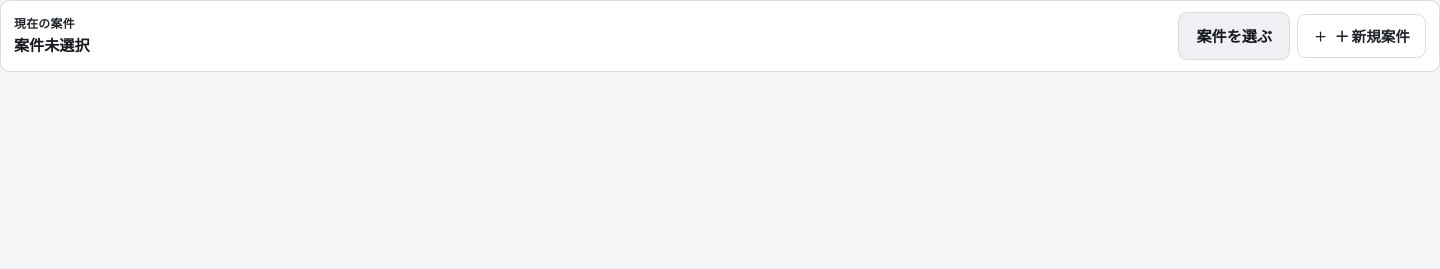
Test case: CaseSelector — 26-0001/26-0002/26-0003 each independently findable (spec #1, #5, #18) › 選択解除 clears the selection and collapses back to the compact 案件未選択 view
Click the button "案件を選ぶ". click: (1234, 36)
box: [1178, 12, 1290, 60]
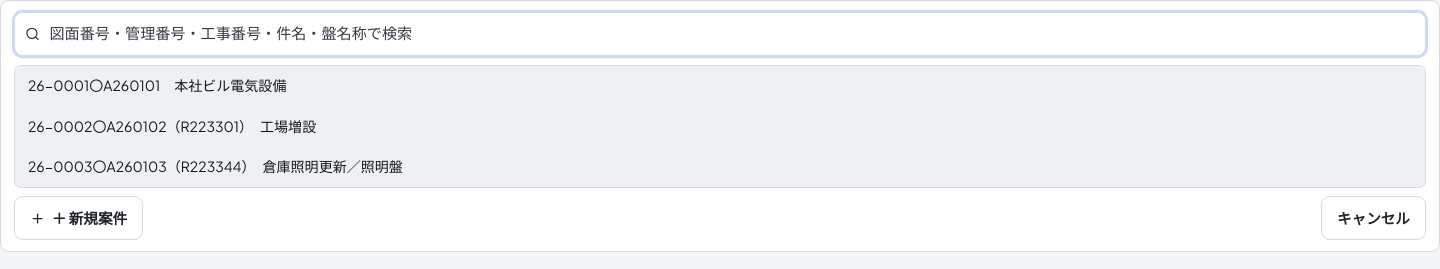
Type "26-0001" into the field with placeholder "図面番号・管理番号・工事番号・件名・盤名称で検索". click: (720, 34)
box: [14, 12, 1426, 56]
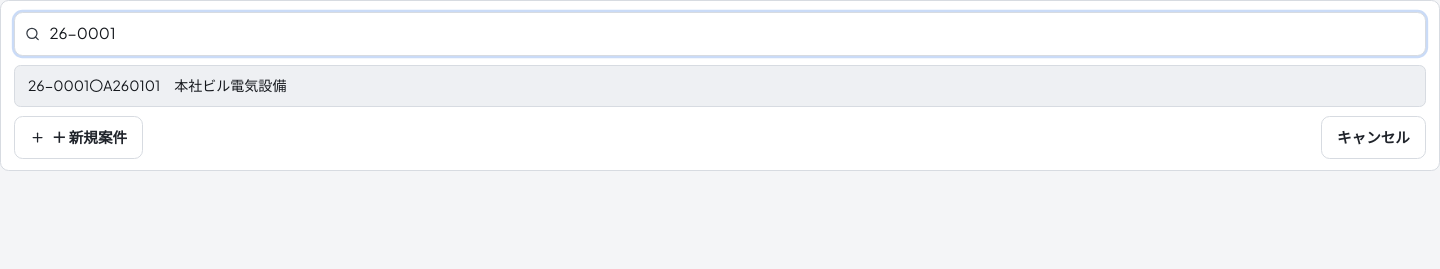
Click the button "26-0001〇A260101 本社ビル電気設備". click: (157, 85)
box: [15, 66, 1425, 106]
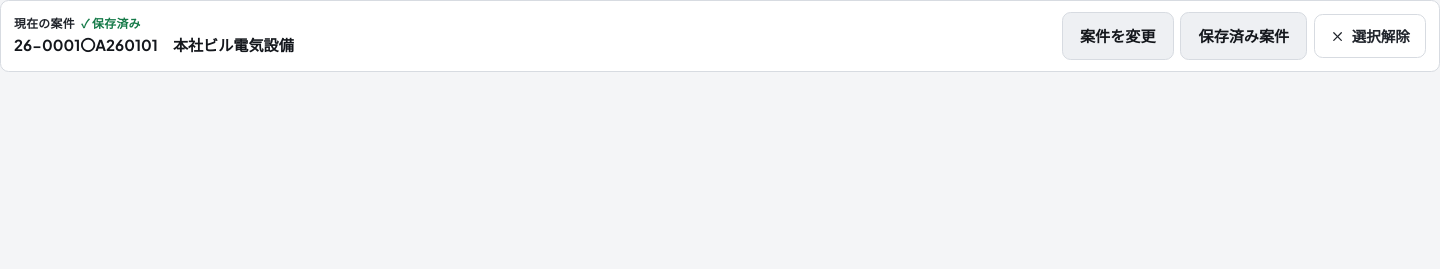
Click the button "選択解除". click: (1370, 36)
box: [1314, 14, 1426, 58]
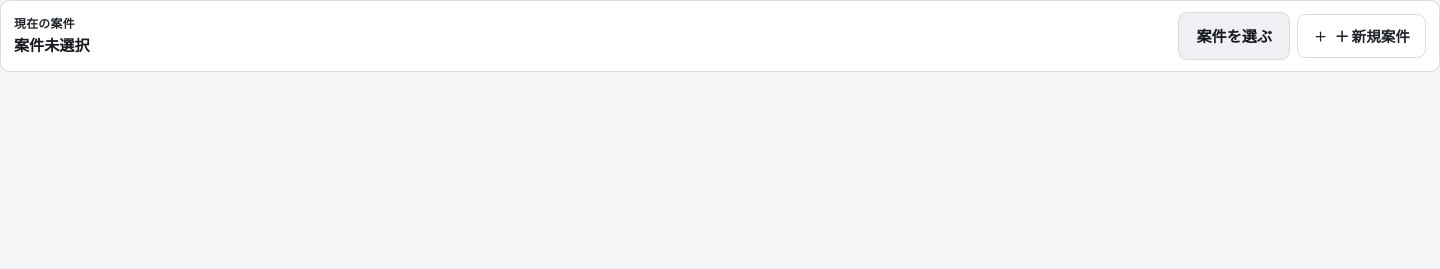
Expected: the field with placeholder "図面番号" is not shown
Now the text "案件未選択" is shown, box [14, 33, 90, 58]
